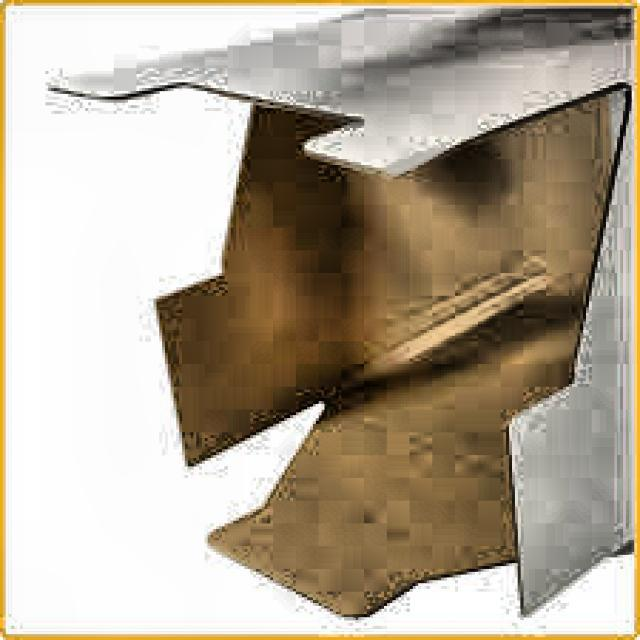cardboard: (0, 0, 637, 629)
